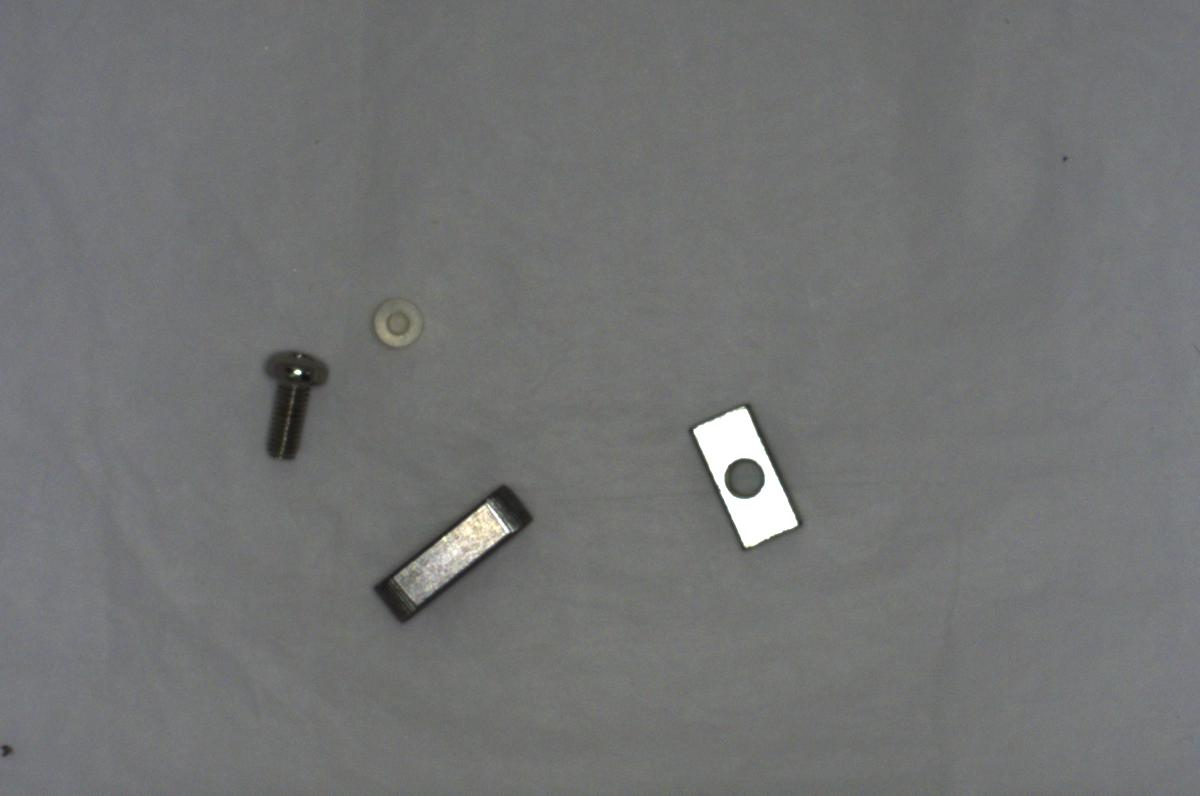Keybar: (372, 478, 533, 627)
Plastic cushion pillar: (368, 290, 431, 358)
Rectangular nut: (691, 398, 808, 553)
Round head screw: (254, 343, 331, 458)
